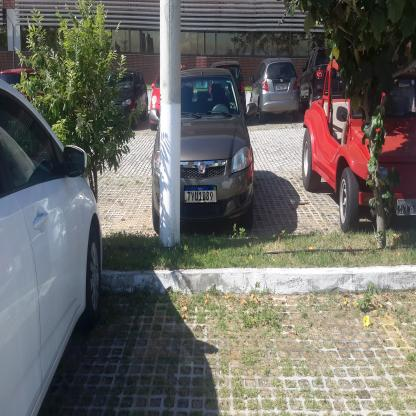PlacaM: (184, 185, 217, 204)
